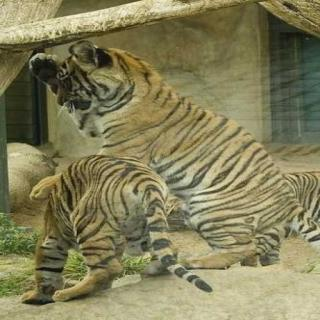Tiger: (36, 30, 320, 261), (16, 146, 192, 294)
